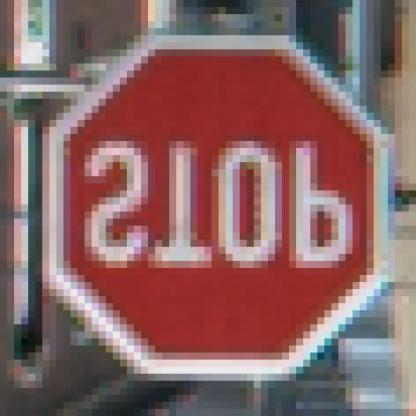stop: (36, 34, 398, 388)
